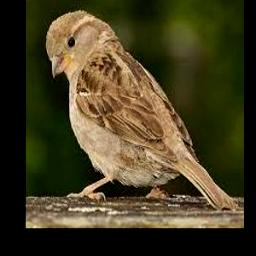Sparrow: (47, 10, 238, 212)
